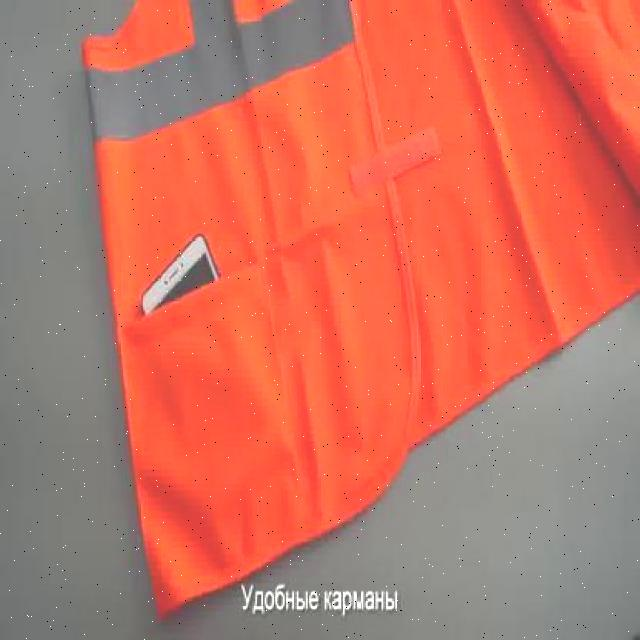Mask: (78, 0, 638, 618)
